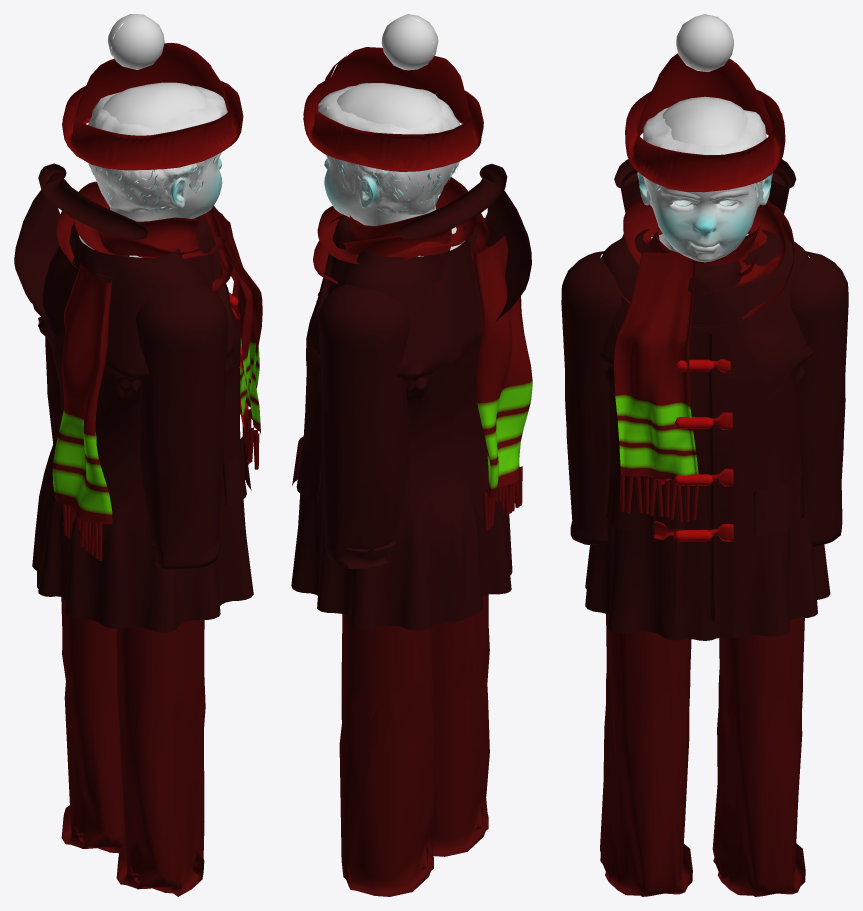
File: nino_m.glb
The picture shows the model from 3 angles, left to right: view 1: azimuth 30°, elevation 25°; view 2: azimuth 150°, elevation 25°; view 3: azimuth 270°, elevation 25°; orthographic projection. The views are drawn at different scales.
Visible parts, largest first — view 1: ropa, pelo, piel, borla; view 2: ropa, pelo, piel, borla; view 3: ropa, piel, pelo, borla.
Boxes of the visible parts, x1,y1,x2,y2 form: ropa: (14, 42, 262, 896); pelo: (88, 85, 227, 212); piel: (79, 82, 222, 257); borla: (108, 14, 164, 69); ropa: (291, 47, 532, 896); pelo: (318, 82, 459, 215); piel: (324, 83, 464, 256); borla: (381, 14, 438, 70); ropa: (561, 53, 848, 896); piel: (637, 96, 772, 262); pelo: (641, 107, 766, 204); borla: (676, 14, 733, 71).
Bounding box in the file's own units: 0.3175 × 1.18 × 0.3537.
